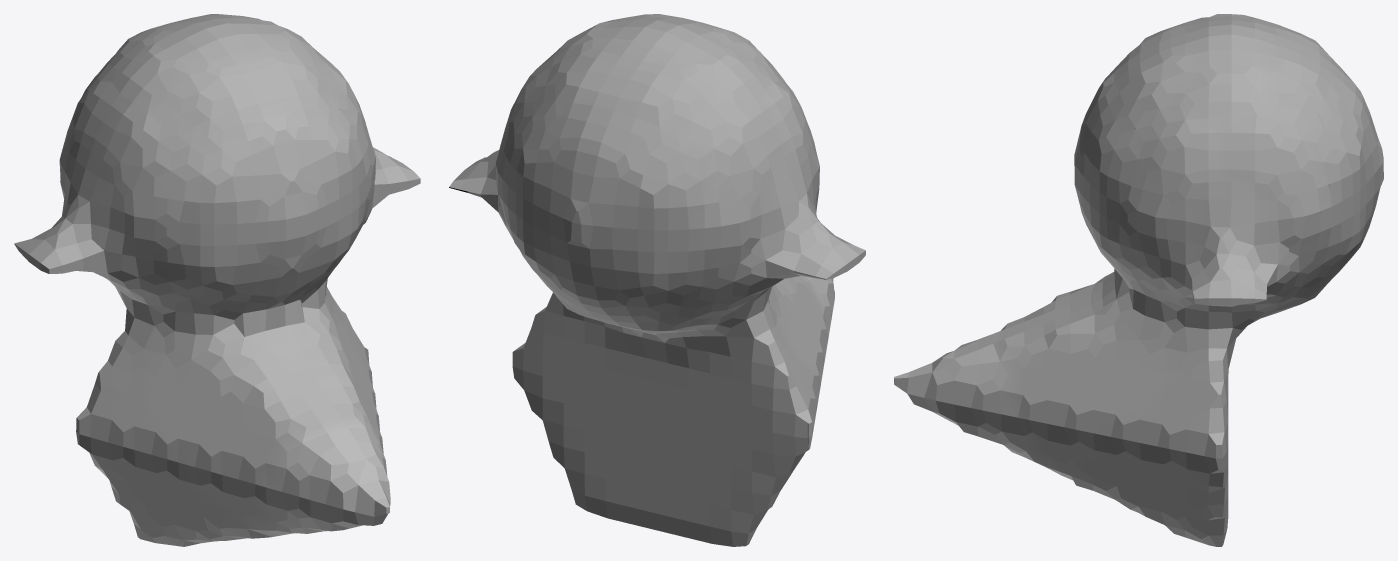
Rendered from ghost.glb.
3 views of the same model, side by side, from view 1: azimuth 30°, elevation 25°; view 2: azimuth 150°, elevation 25°; view 3: azimuth 270°, elevation 25° (orthographic). The views are drawn at different scales.
Visible parts, largest first — view 1: geometry_0; view 2: geometry_0; view 3: geometry_0.
Part boxes in pixels (box(x1,y1,x2,y2)): geometry_0: box(14, 14, 420, 546); geometry_0: box(449, 14, 865, 546); geometry_0: box(894, 14, 1383, 546).
Bounding box in the file's own units: 0.7641 × 0.9702 × 0.8844.
Materials: 1 (1 with a texture image).
